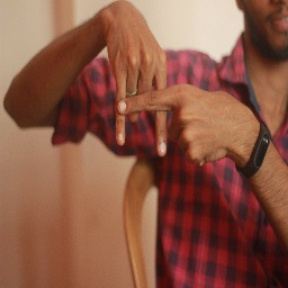H: (92, 46, 194, 177)
